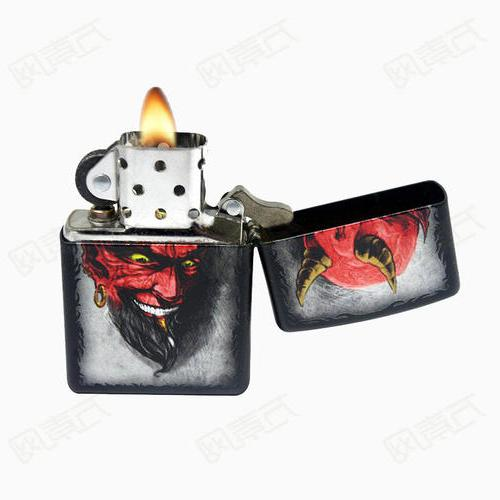fire: (131, 77, 185, 166)
